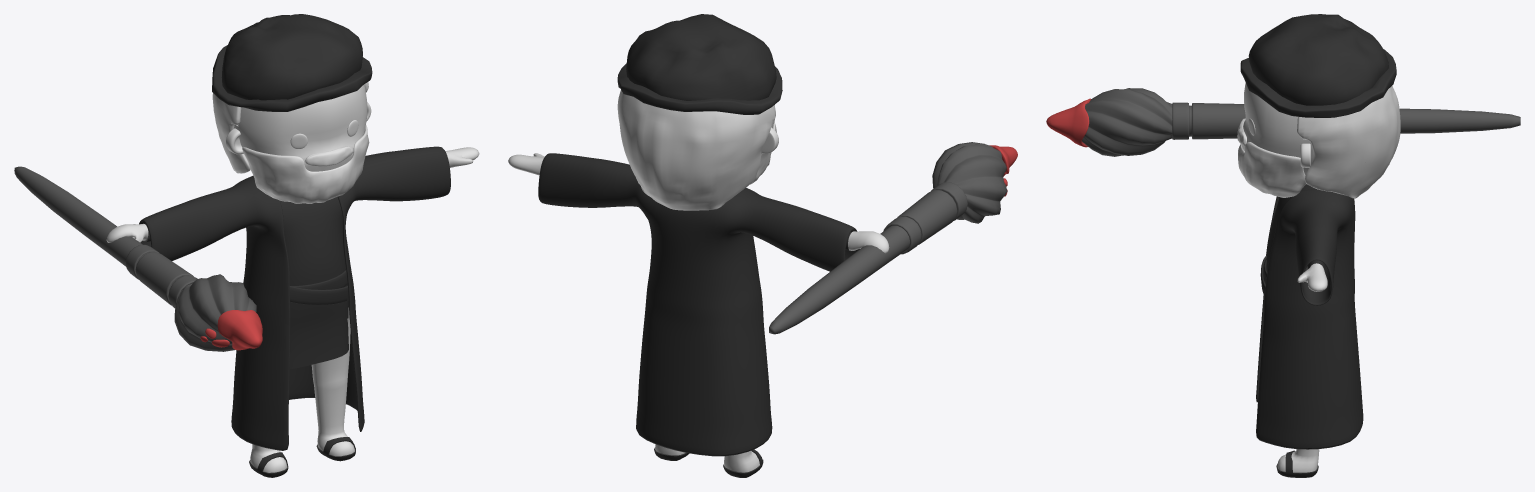
File: DaVinci_SmallB_Test.fbx
3 renders of one model, left to right at view 1: azimuth 30°, elevation 25°; view 2: azimuth 150°, elevation 25°; view 3: azimuth 270°, elevation 25°, orthographic. The views are drawn at different scales.
Parts seen in each view (by area): view 1: Robe, Top, Shirt, Head, Beard, Bristles, Legs, Handle, Rim, Ferrule, PaintBullet, Hair (+4 smaller); view 2: Robe, Hair, Top, Bristles, Handle, Ferrule, Rim, Legs, Hand_R, Hand_L; view 3: Robe, Top, Hair, Bristles, Rim, Beard, Head, Handle, Ferrule, PaintBullet, Legs, Hand_L (+1 smaller).
Part boxes in pixels (bbox=[...]): Robe: bbox=[139, 146, 450, 450]; Top: bbox=[221, 14, 362, 100]; Shirt: bbox=[142, 196, 348, 368]; Head: bbox=[234, 84, 367, 171]; Beard: bbox=[242, 125, 369, 203]; Bristles: bbox=[174, 274, 256, 351]; Legs: bbox=[250, 307, 354, 472]; Handle: bbox=[14, 166, 142, 266]; Rim: bbox=[212, 45, 372, 111]; Ferrule: bbox=[125, 244, 197, 308]; PaintBullet: bbox=[200, 310, 262, 350]; Hair: bbox=[212, 82, 368, 173]; Robe: bbox=[538, 153, 859, 456]; Hair: bbox=[617, 90, 775, 210]; Top: bbox=[626, 14, 776, 100]; Bristles: bbox=[932, 142, 1007, 223]; Handle: bbox=[769, 225, 910, 334]; Ferrule: bbox=[883, 182, 967, 254]; Rim: bbox=[617, 63, 782, 114]; Legs: bbox=[655, 444, 759, 472]; Hand_R: bbox=[848, 231, 889, 253]; Hand_L: bbox=[508, 153, 544, 175]; Robe: bbox=[1256, 189, 1363, 449]; Top: bbox=[1248, 14, 1388, 105]; Hair: bbox=[1297, 86, 1400, 198]; Bristles: bbox=[1082, 88, 1172, 156]; Rim: bbox=[1240, 49, 1396, 117]; Beard: bbox=[1238, 142, 1305, 197]; Head: bbox=[1241, 83, 1313, 175]; Handle: bbox=[1399, 108, 1520, 133]; Ferrule: bbox=[1172, 102, 1245, 139]; PaintBullet: bbox=[1046, 98, 1090, 147]; Legs: bbox=[1277, 449, 1319, 472]; Hand_L: bbox=[1297, 263, 1327, 291].
Bounding box in the file's own units: 16.57 × 17.53 × 17.57.
